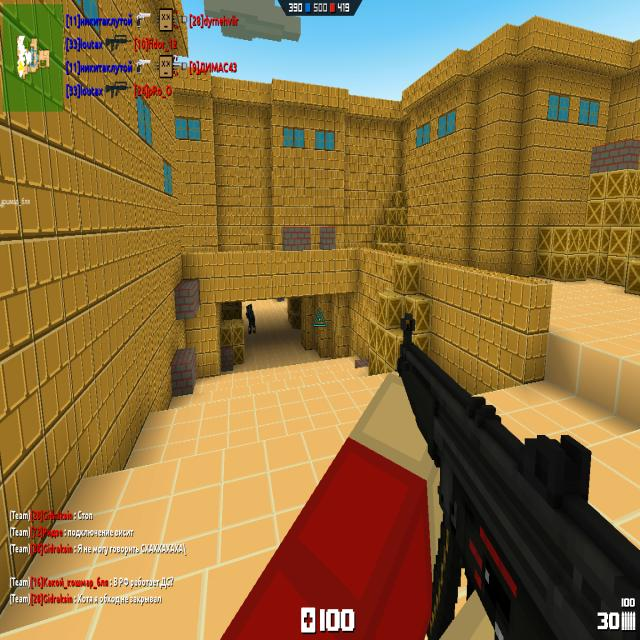enemy: (245, 304, 256, 334)
